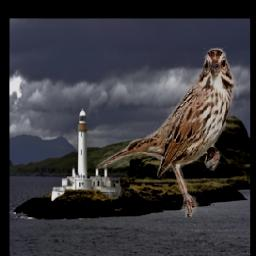Sparrow: (95, 48, 236, 218)
